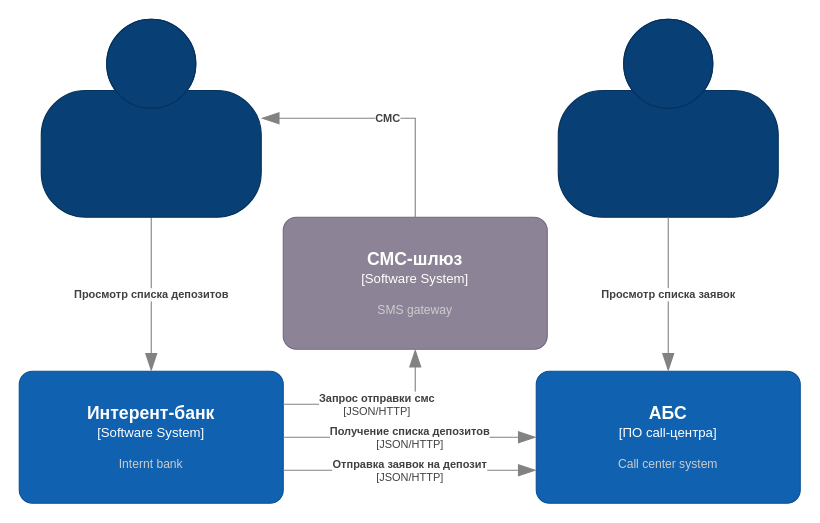
Some shapes in this 820 by 523 pixel diagram are drawn without their labels. The shapes that lost their labels are listed below. From the top down, each one's centre as x and y in pixels, then its label:
[150,117]: Клиент [Person] Client
[667,117]: Оператор back-office [Person] Operator
